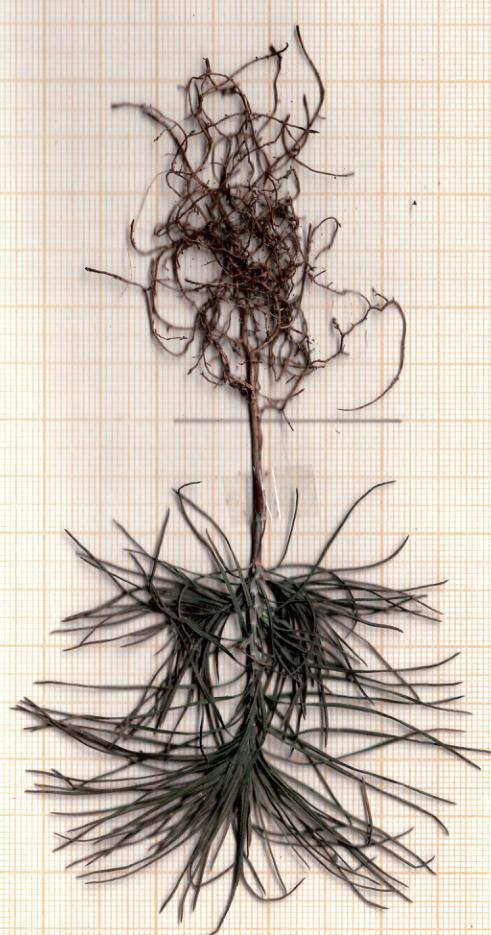flower: (10, 520, 481, 935)
root: (82, 19, 415, 410)
stem: (232, 398, 271, 560)
